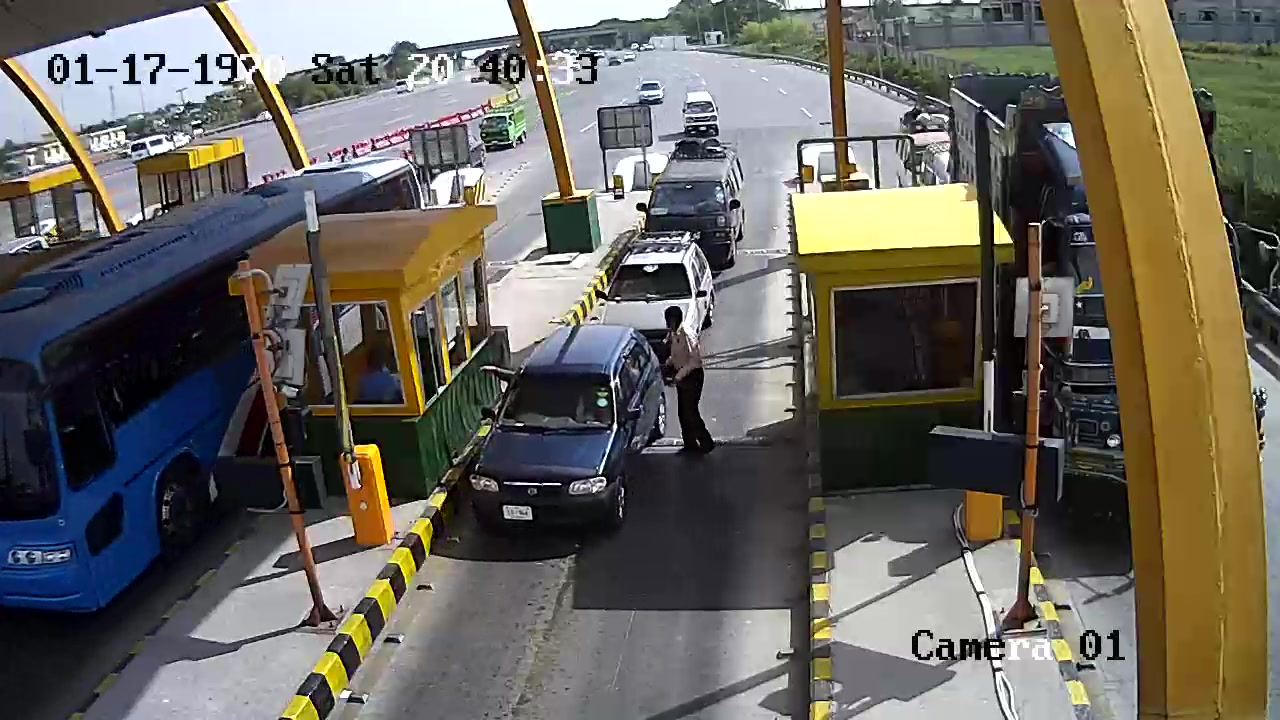F1: (455, 321, 672, 555), (587, 228, 718, 368)
